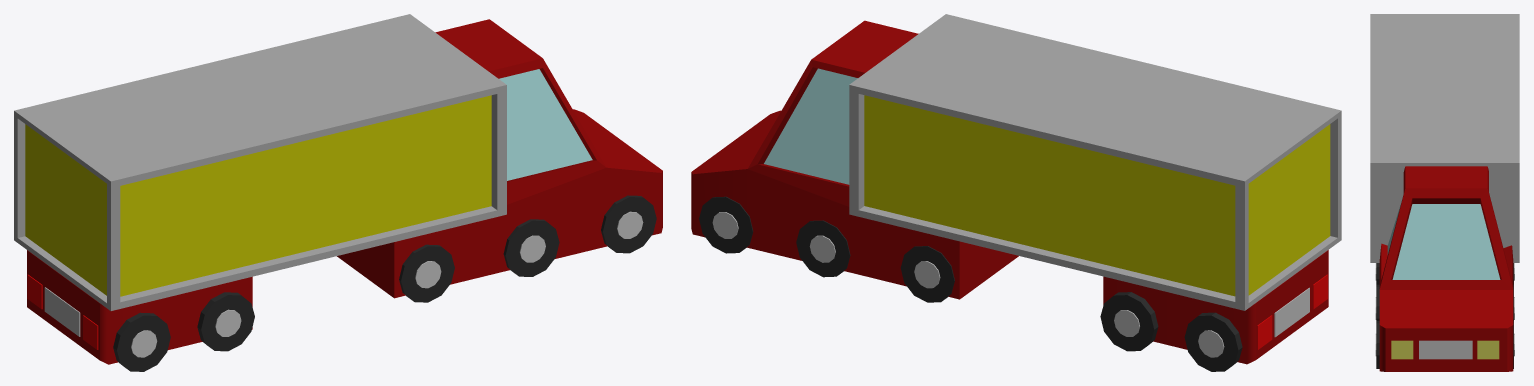
File: Caminhao.fbx
3 views of the same model, side by side, from view 1: azimuth 30°, elevation 25°; view 2: azimuth 150°, elevation 25°; view 3: azimuth 270°, elevation 25° (orthographic). The views are drawn at different scales.
Parts seen in each view (by area): view 1: pCube83; view 2: pCube83; view 3: pCube83.
Part boxes in pixels (x1,y1,x2,y2): pCube83: [14, 14, 662, 371]; pCube83: [691, 14, 1341, 371]; pCube83: [1370, 14, 1519, 371].
Bounding box in the file's own units: 8.78 × 3.02 × 2.62.
